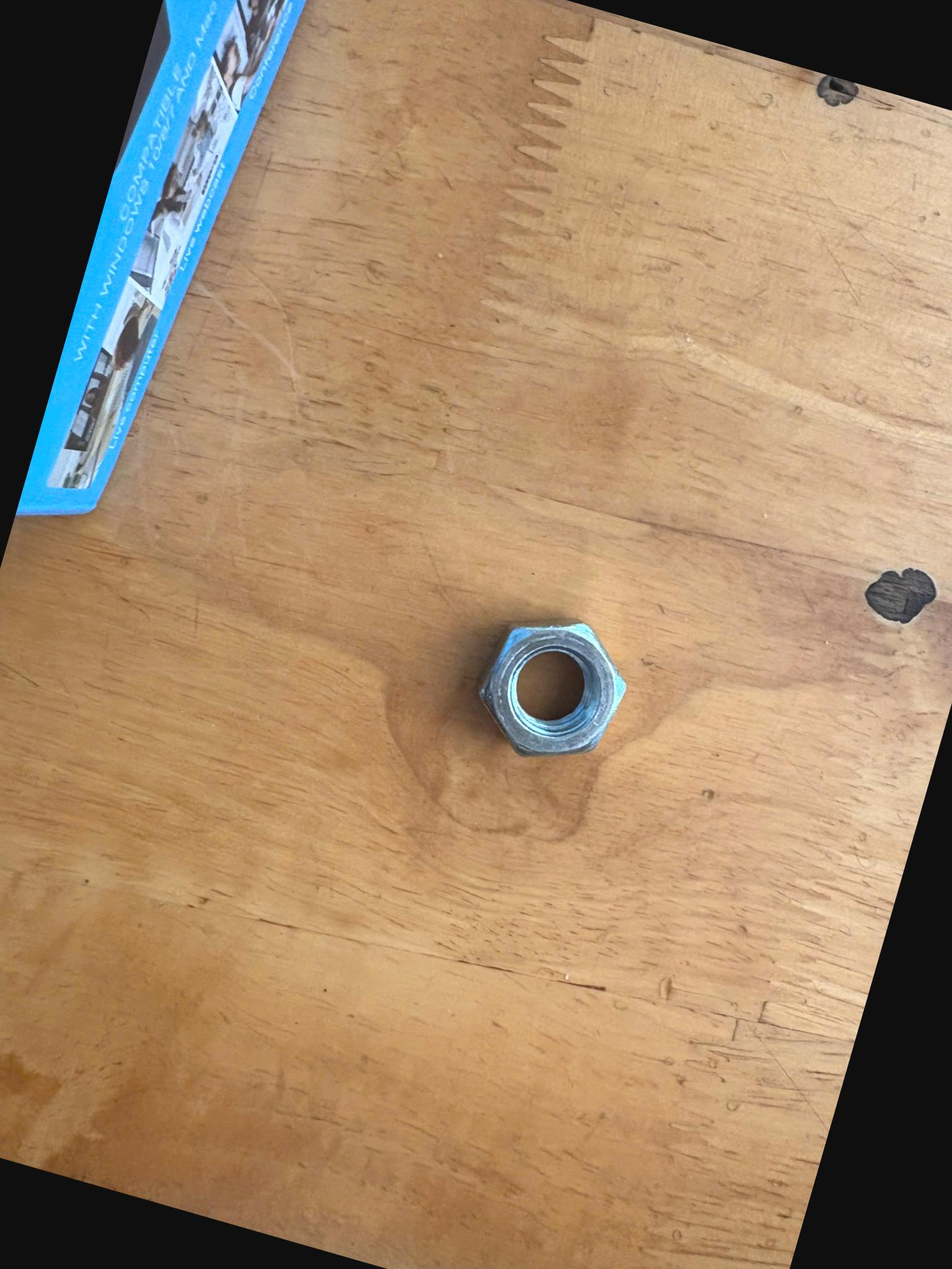nut: (438, 571, 661, 792)
